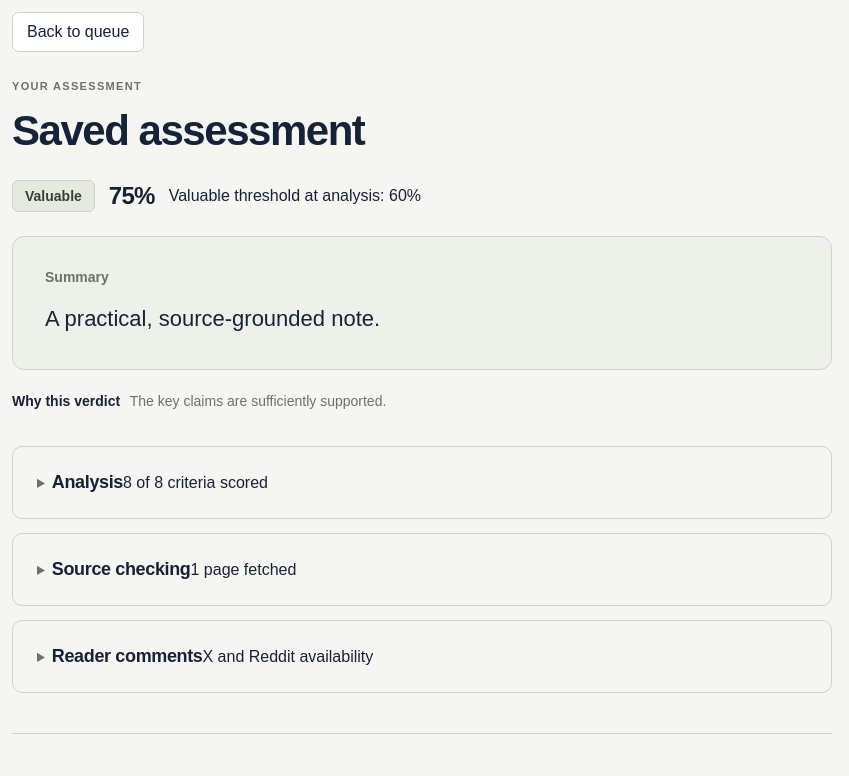
Test case: keeps ready research status visible and explains its limitations when opened
Expected: the text "A practical, source-grounded note." is shown, [45,306,380,330]
Expected: the text "1 page fetched" is shown, [190,561,296,578]
Step 1. Click the heading "Source checking" → (121, 569), box [52,559,190,579]
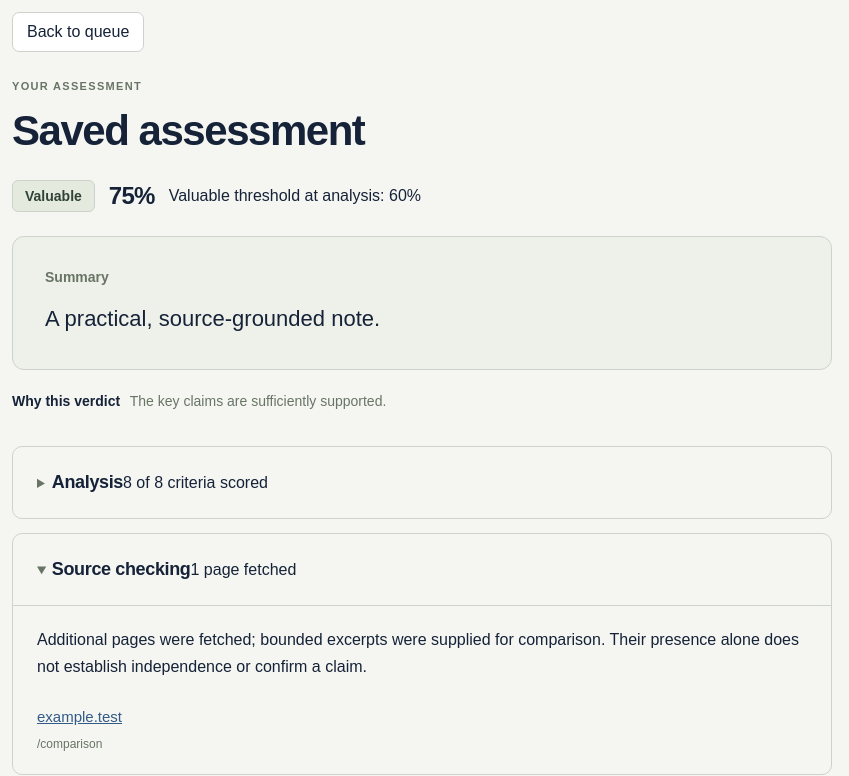
Now the text "presence alone does not" is shown, box [37,631,799,675]
